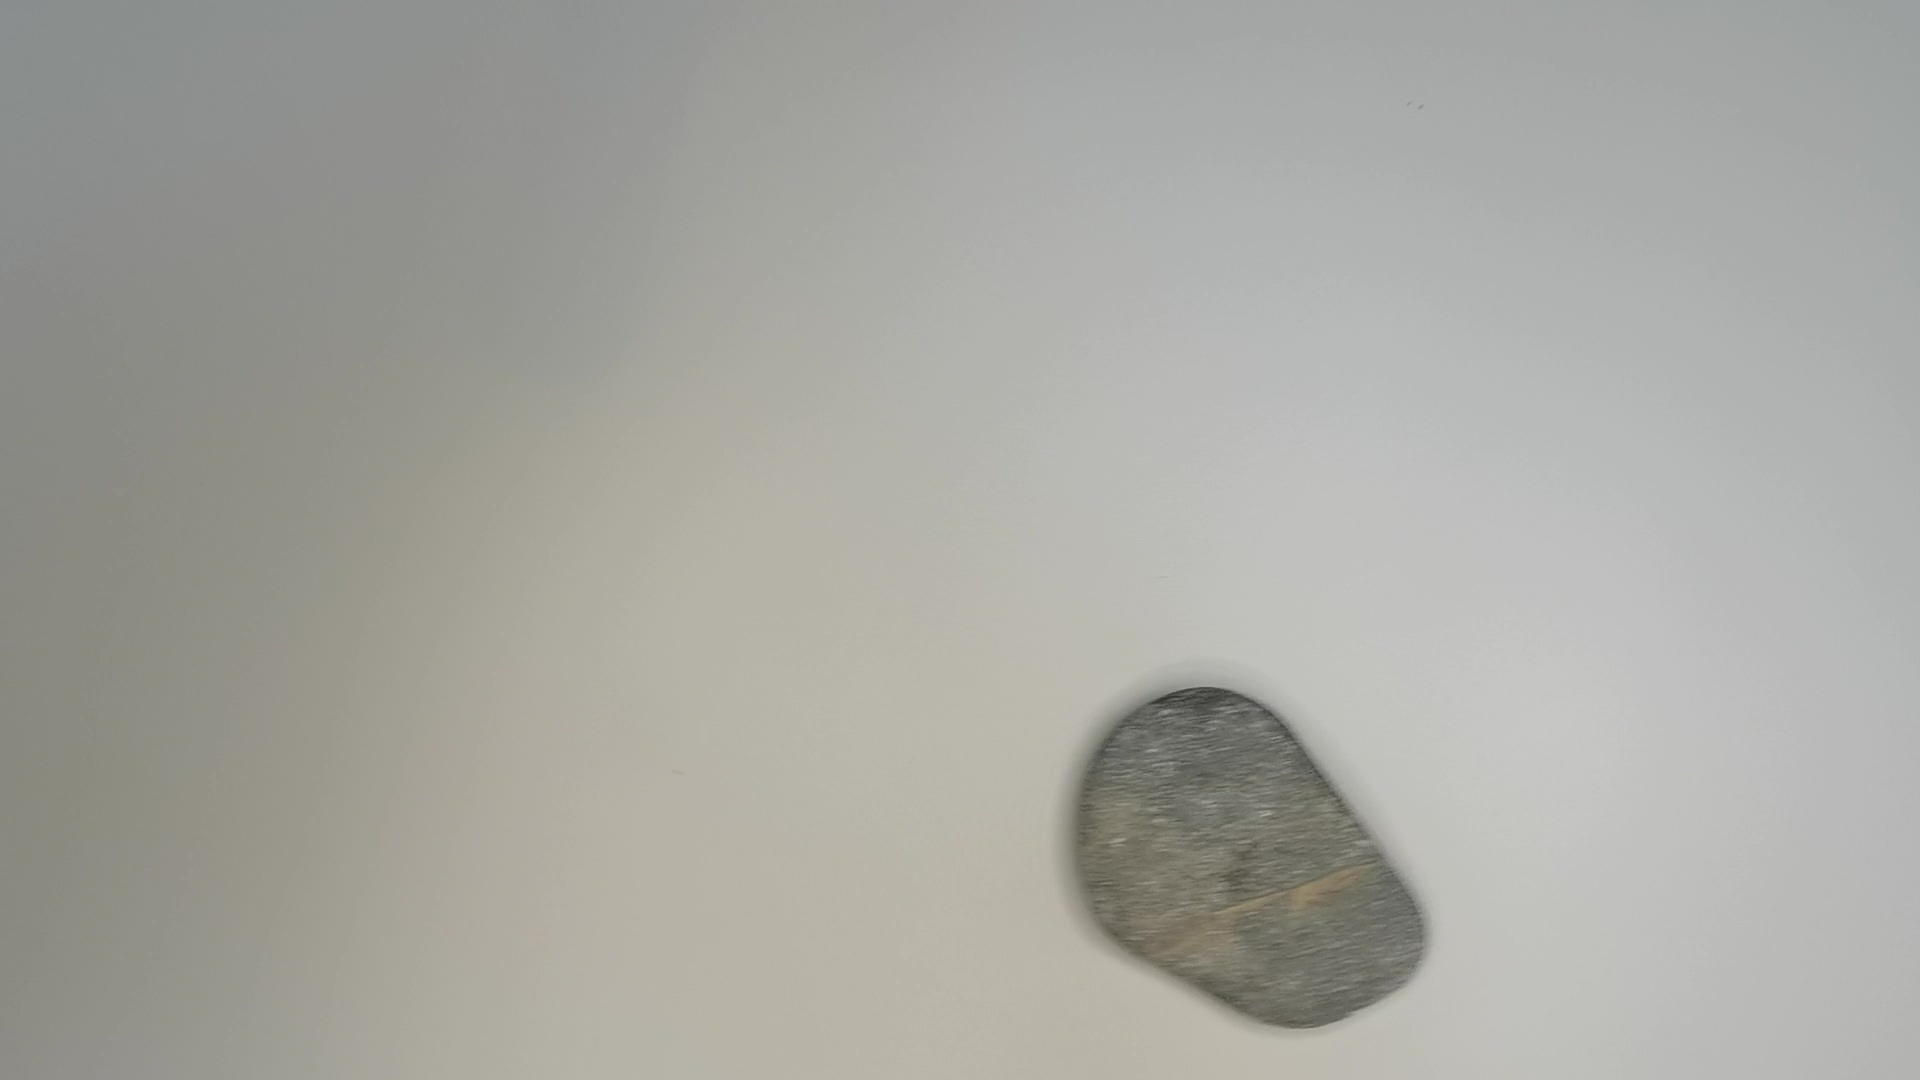ceramic: (1065, 680, 1432, 1031)
